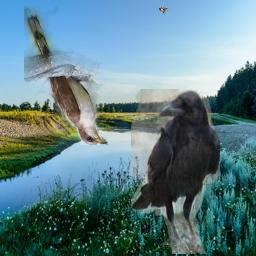Crow: (131, 89, 220, 254)
Cuckoo: (24, 6, 108, 145)
Swallow: (159, 7, 171, 15)
